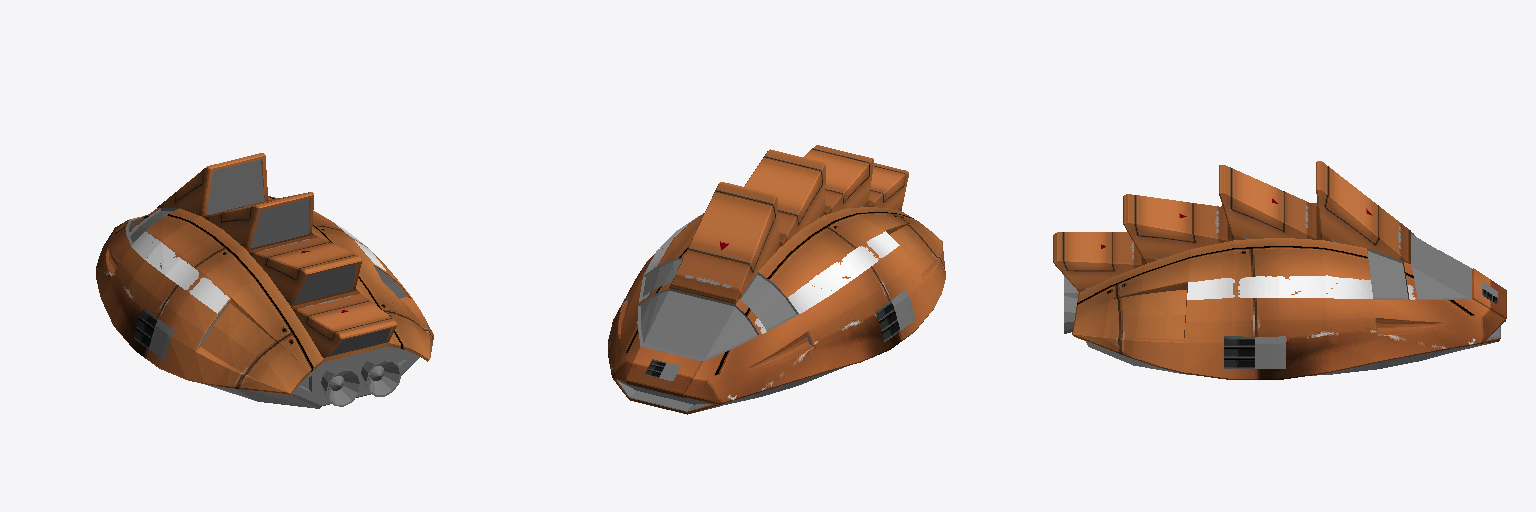
3 renders of one model, left to right at view 1: azimuth 30°, elevation 25°; view 2: azimuth 150°, elevation 25°; view 3: azimuth 270°, elevation 25°, orthographic.
Visible parts, largest first — view 1: 24_wildboar_a; view 2: 24_wildboar_a; view 3: 24_wildboar_a.
Part boxes in pixels (x1,y1,x2,y2): 24_wildboar_a: (96,153,433,408); 24_wildboar_a: (608,145,945,414); 24_wildboar_a: (1053,161,1506,379).
Size of the model in its own units: 1.36 by 0.8623 by 2.18.
16 materials, 4 textured.